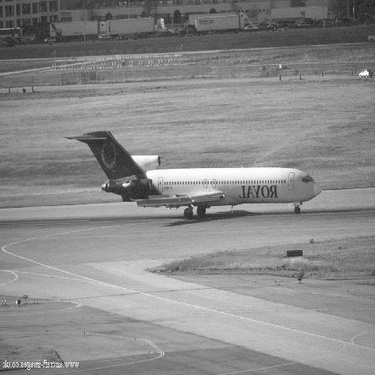airplane: (58, 121, 327, 229)
